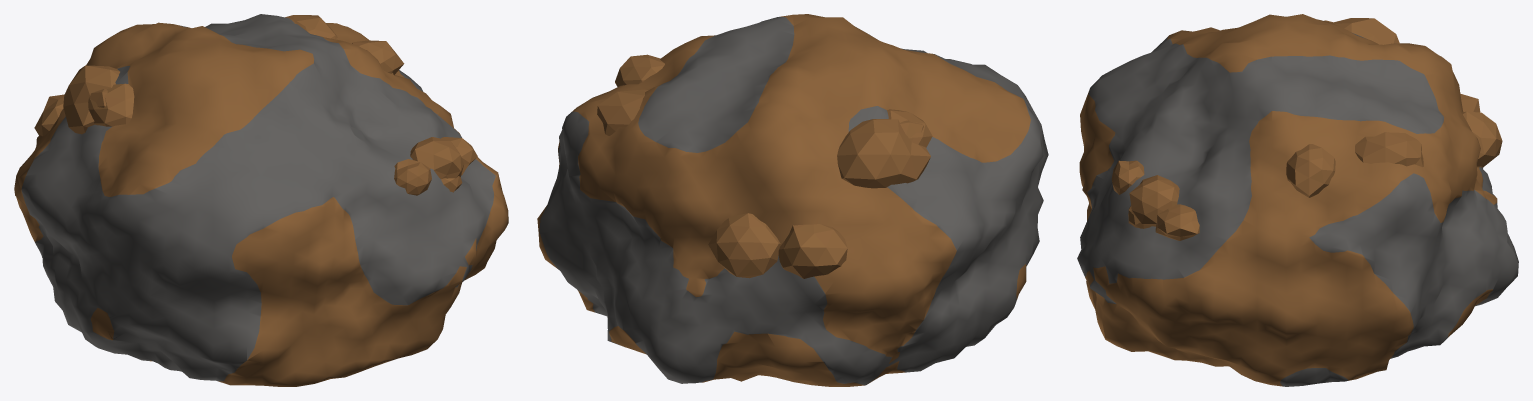
The model's file is brown_limonite_deep.glb.
The picture shows the model from 3 angles, left to right: view 1: azimuth 30°, elevation 25°; view 2: azimuth 150°, elevation 25°; view 3: azimuth 270°, elevation 25°; orthographic projection. The views are drawn at different scales.
Parts seen in each view (by area): view 1: brown_limonite_deep; view 2: brown_limonite_deep; view 3: brown_limonite_deep.
Part boxes in pixels (left/top/right/bottom): brown_limonite_deep: left=14, top=14, right=508, bottom=386; brown_limonite_deep: left=537, top=14, right=1048, bottom=386; brown_limonite_deep: left=1077, top=14, right=1518, bottom=386.
Bounding box in the file's own units: 2.06 × 1.26 × 1.97.
